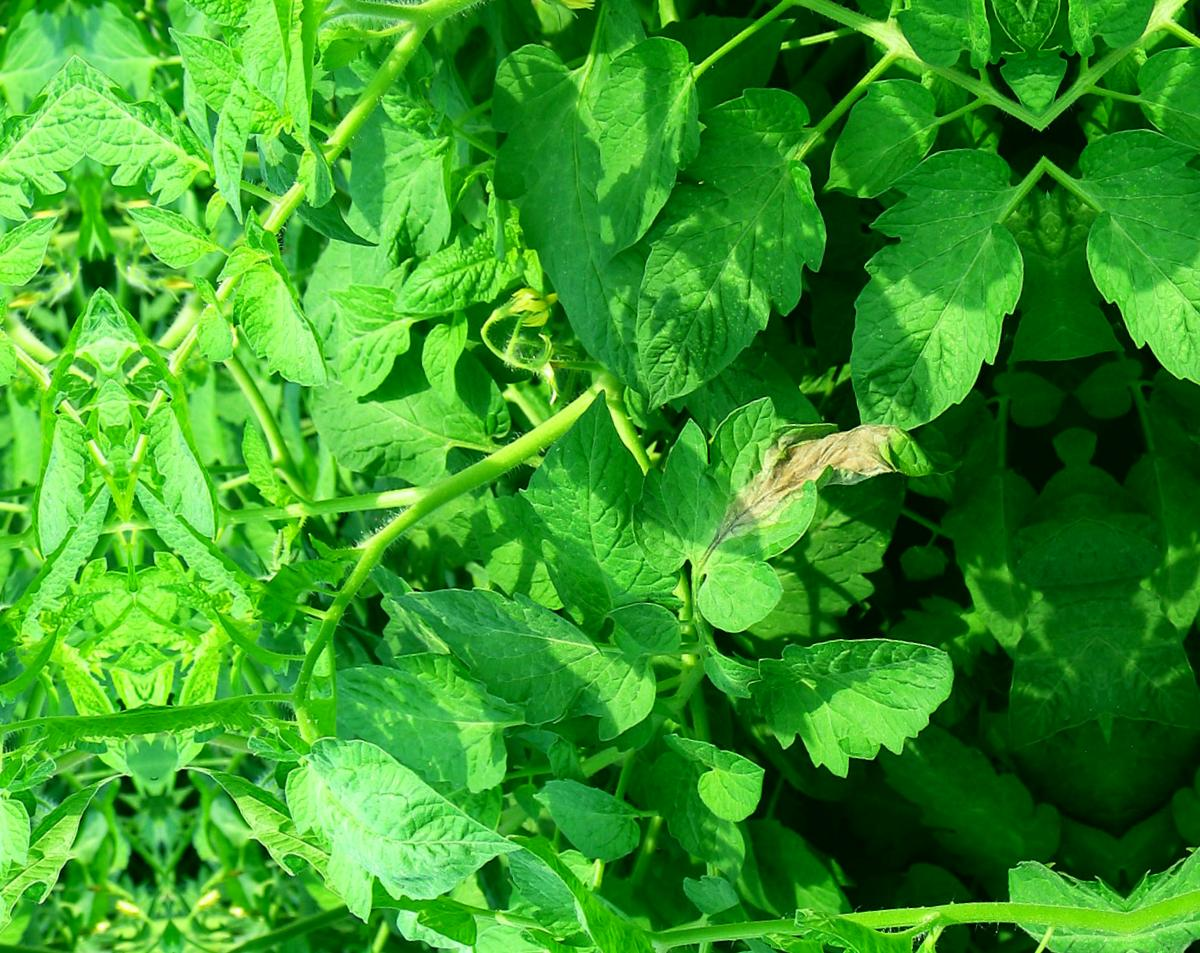Tomato leaf: (598, 81, 878, 412), (373, 540, 694, 766), (839, 135, 1050, 442), (300, 644, 565, 816), (715, 619, 975, 794), (553, 39, 736, 246), (808, 67, 954, 211), (237, 233, 327, 408), (422, 920, 630, 953)
Tomato leaf late blight: (651, 390, 888, 627)
